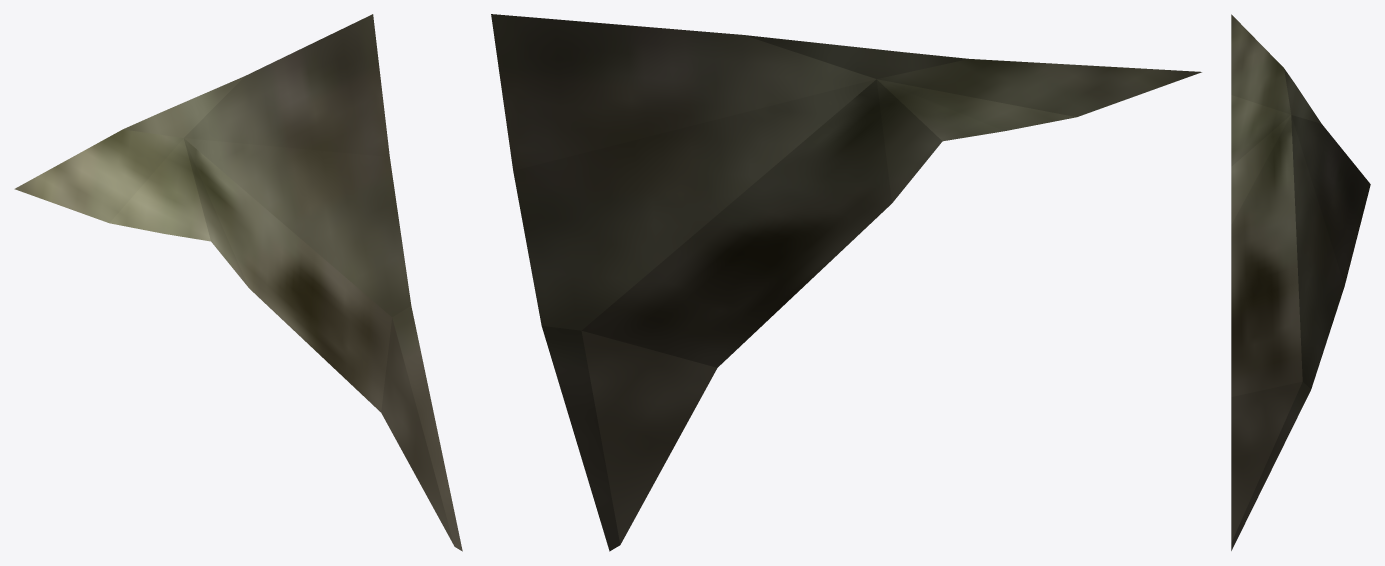
3 renders of one model, left to right at view 1: azimuth 30°, elevation 25°; view 2: azimuth 150°, elevation 25°; view 3: azimuth 270°, elevation 25°, orthographic. The views are drawn at different scales.
Size of the model in its own units: 0.5392 by 0.5426 by 0.1867.
1 material, 1 textured.
